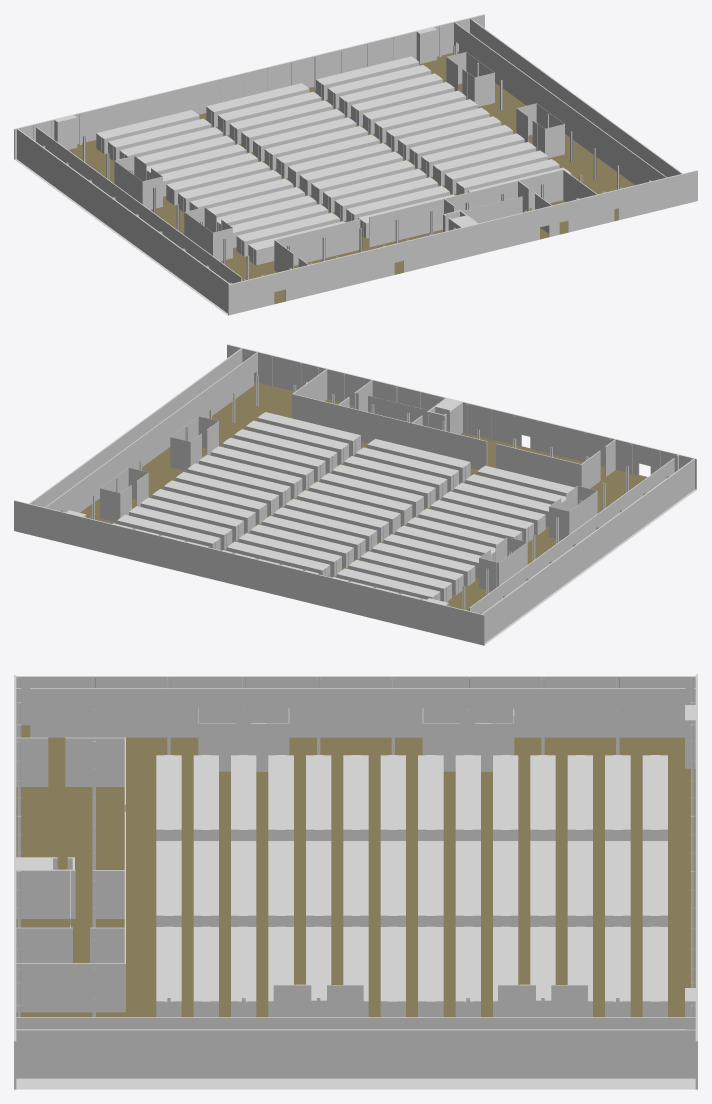
File: vector_dev_floor.dae
3 views of the same model, one above another, from view 1: azimuth 30°, elevation 25°; view 2: azimuth 150°, elevation 25°; view 3: azimuth 270°, elevation 25° (orthographic). The views are drawn at different scales.
Parts seen in each view (by area): view 1: vector_dev_floor; view 2: vector_dev_floor; view 3: vector_dev_floor.
Boxes of the visible parts, bbox=[...] form: vector_dev_floor: bbox=[14, 14, 697, 315]; vector_dev_floor: bbox=[14, 344, 697, 645]; vector_dev_floor: bbox=[14, 674, 697, 1089].
Size of the model in its own units: 99.09 by 78.03 by 6.1.
